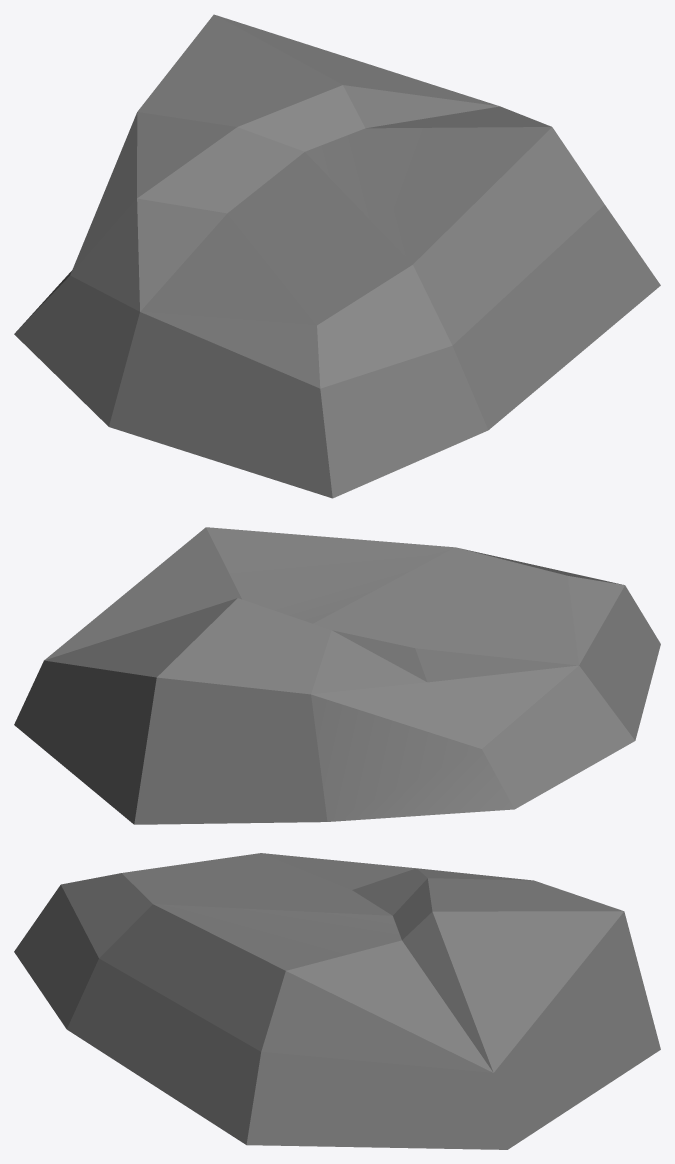
Rendered from model_polytope_foliage_rock_small02.fbx.
The picture shows the model from 3 angles, top to bottom: view 1: azimuth 30°, elevation 25°; view 2: azimuth 150°, elevation 25°; view 3: azimuth 270°, elevation 25°; orthographic projection. The views are drawn at different scales.
Parts seen in each view (by area): view 1: model_polytope_foliage_rock_small02; view 2: model_polytope_foliage_rock_small02; view 3: model_polytope_foliage_rock_small02.
Boxes of the visible parts, bbox=[...] form: model_polytope_foliage_rock_small02: bbox=[14, 14, 660, 498]; model_polytope_foliage_rock_small02: bbox=[14, 527, 660, 824]; model_polytope_foliage_rock_small02: bbox=[14, 853, 660, 1149].
Bounding box in the file's own units: 226 × 64.82 × 259.
